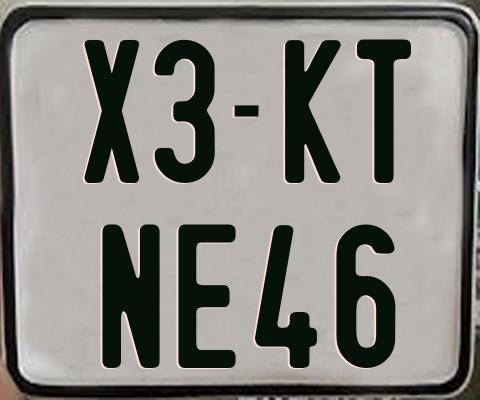3: (154, 38, 219, 183)
4: (255, 223, 318, 366)
6: (333, 223, 393, 373)
E: (178, 223, 242, 373)
K: (284, 39, 344, 187)
N: (101, 223, 160, 372)
T: (355, 36, 415, 182)
X: (84, 38, 141, 182)
